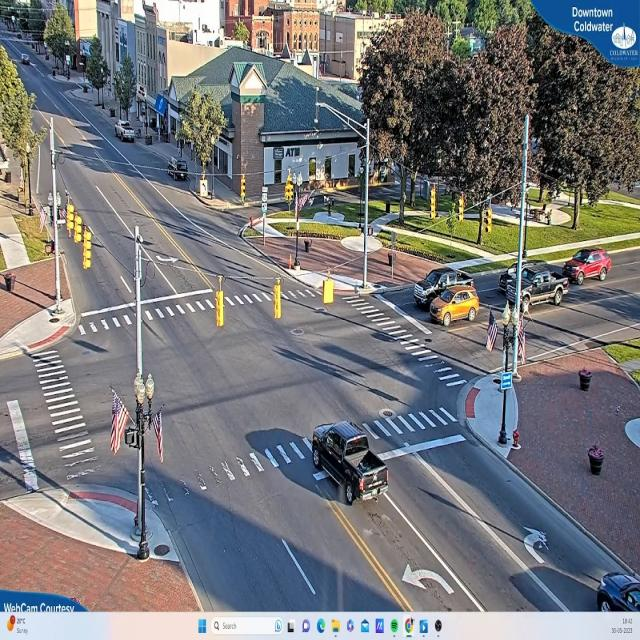car: (499, 266, 568, 310), (412, 266, 475, 307), (430, 290, 480, 326), (561, 250, 611, 284), (598, 573, 638, 614)
